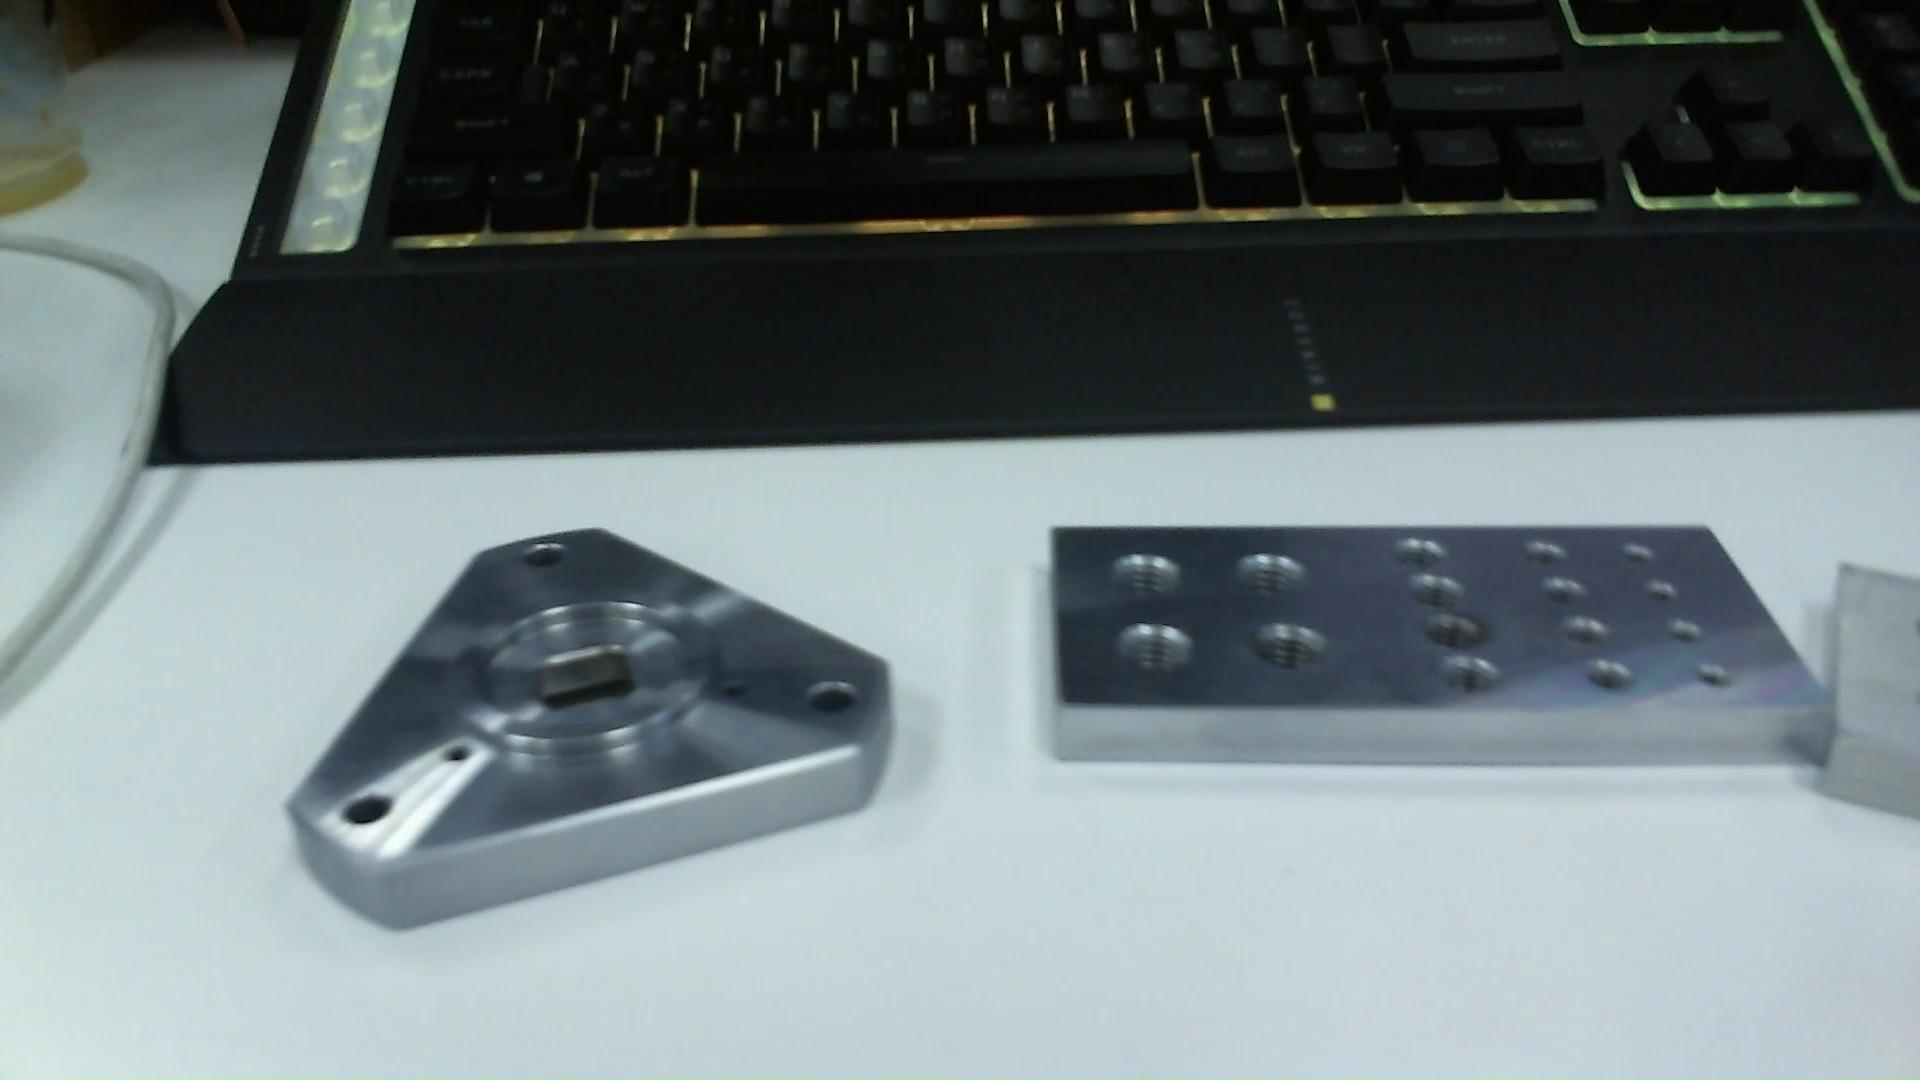hole: (1244, 621, 1337, 679), (1114, 618, 1197, 682), (1109, 545, 1188, 600), (1237, 549, 1309, 607), (1433, 649, 1507, 699), (1414, 603, 1491, 650), (339, 783, 400, 836), (804, 680, 866, 728), (1589, 646, 1640, 694), (1557, 607, 1615, 646), (1403, 574, 1469, 608), (1393, 535, 1457, 570), (522, 537, 571, 579), (1685, 654, 1737, 694), (1538, 568, 1589, 607), (1522, 533, 1575, 570), (1659, 615, 1704, 653), (1633, 575, 1683, 608), (716, 670, 753, 705), (1614, 534, 1659, 563), (436, 744, 479, 771)
